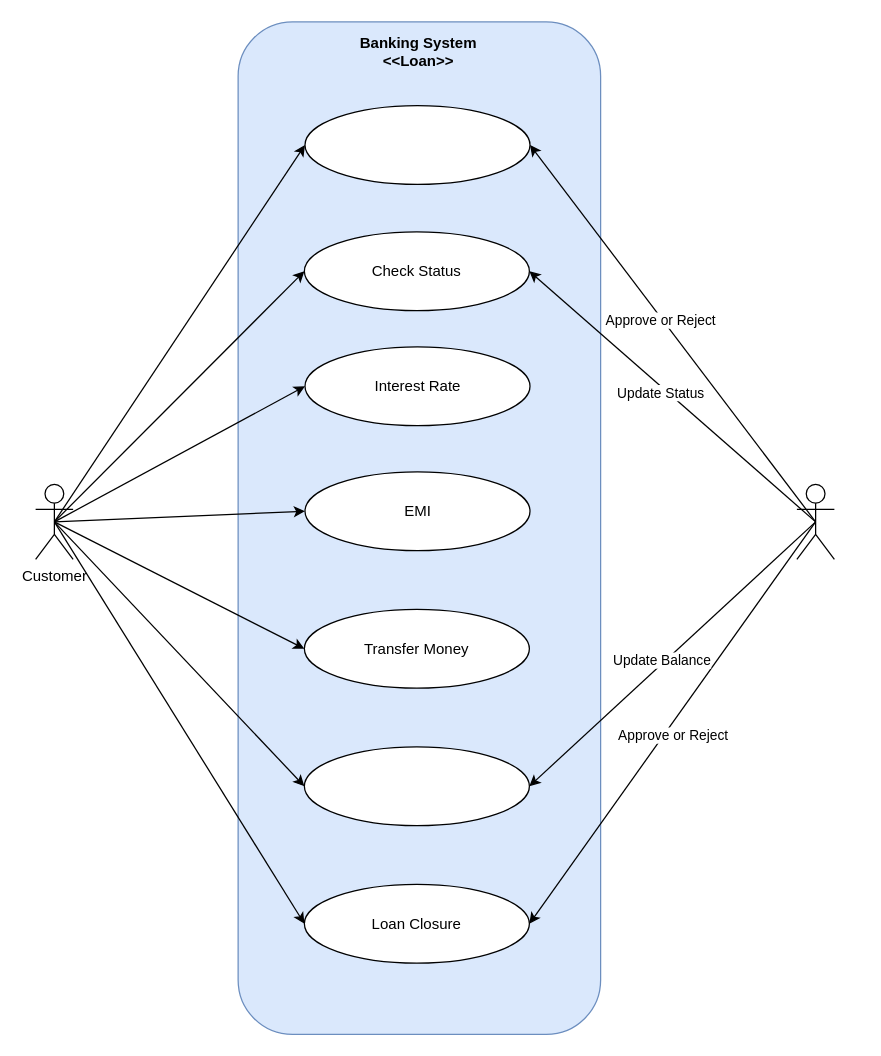
The diagram is 881 pixels wide and 1056 high, and some of its shapes have lost their labels. Each missing label, with the centre of its shape:
Apply Loan: (x=417, y=144)
Bank System: (x=815, y=521)
Partial Payment: (x=416, y=786)
